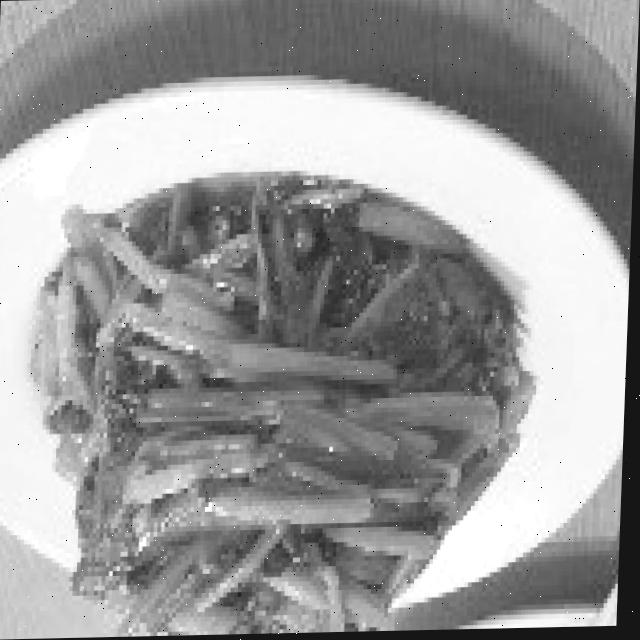蔬菜料理: (0, 70, 638, 640)
